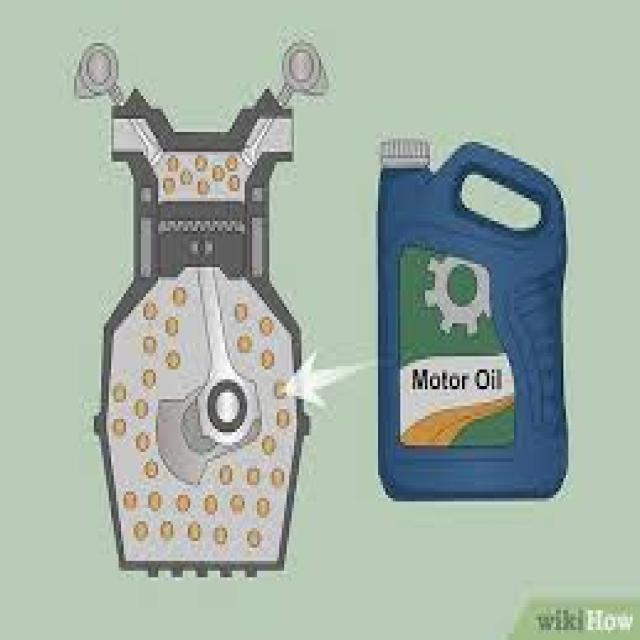motor_oil: (370, 122, 579, 542)
